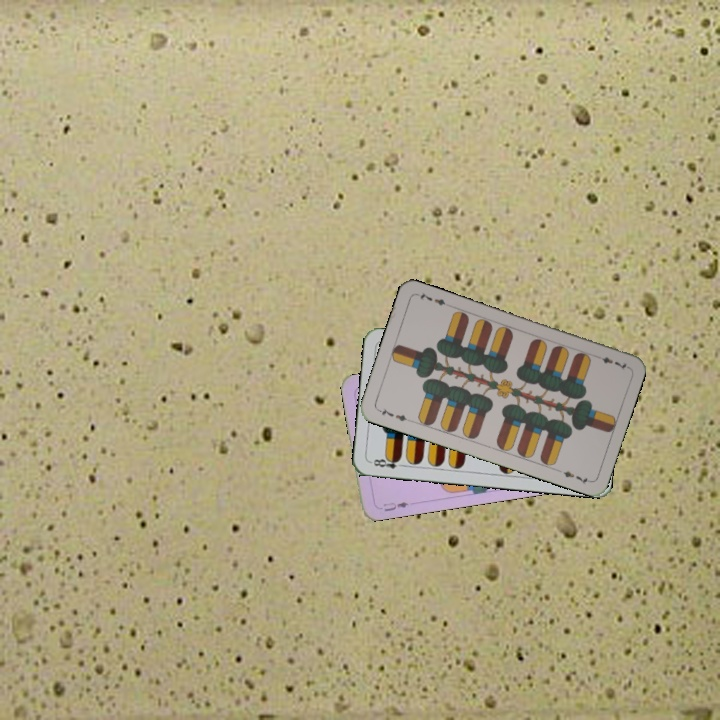E7: (374, 404, 413, 424), (591, 352, 630, 372)
E8: (367, 453, 408, 471)
EU: (379, 498, 411, 514)
